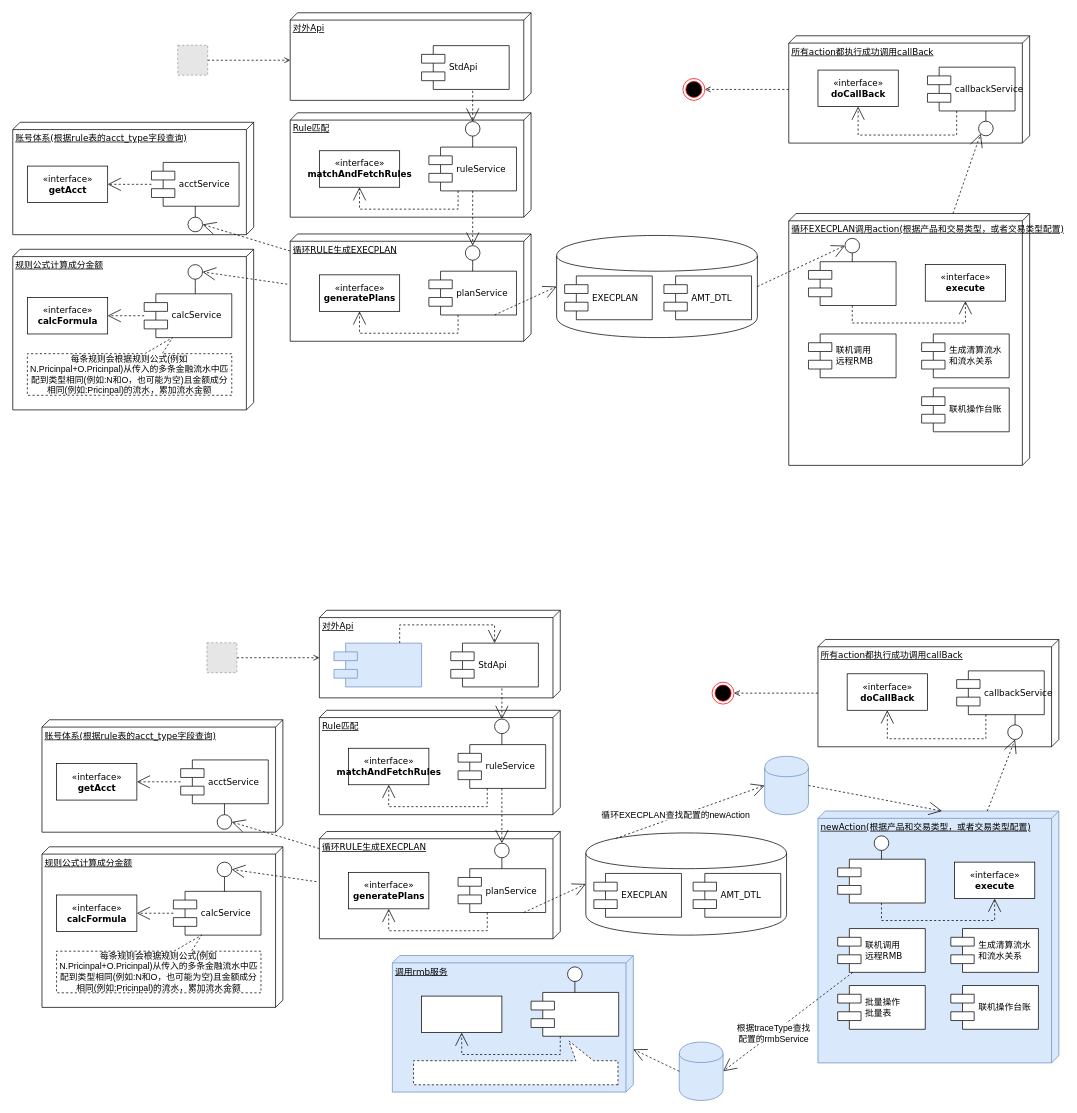
This 1077x1113 diagram has some shape labels left out. Grey dashed boxes stand in for pictures. Each missing label, with the centre of its shape:
"action" belongs at (852,283).
"BEAN_CONFIG" belongs at (786,785).
"newAction" belongs at (881,880).
"rmbService" belongs at (574,1014).
"SimpleApi" belongs at (377,664).
"TRACE_RMB_MAPPING ，RMB_SERVER" belongs at (701,1070).
"«interface» sendRmbRequest" belongs at (461,1014).
"分为三类rmb请求，正向请求，查询请求，冲正请求" belongs at (515,1062).
